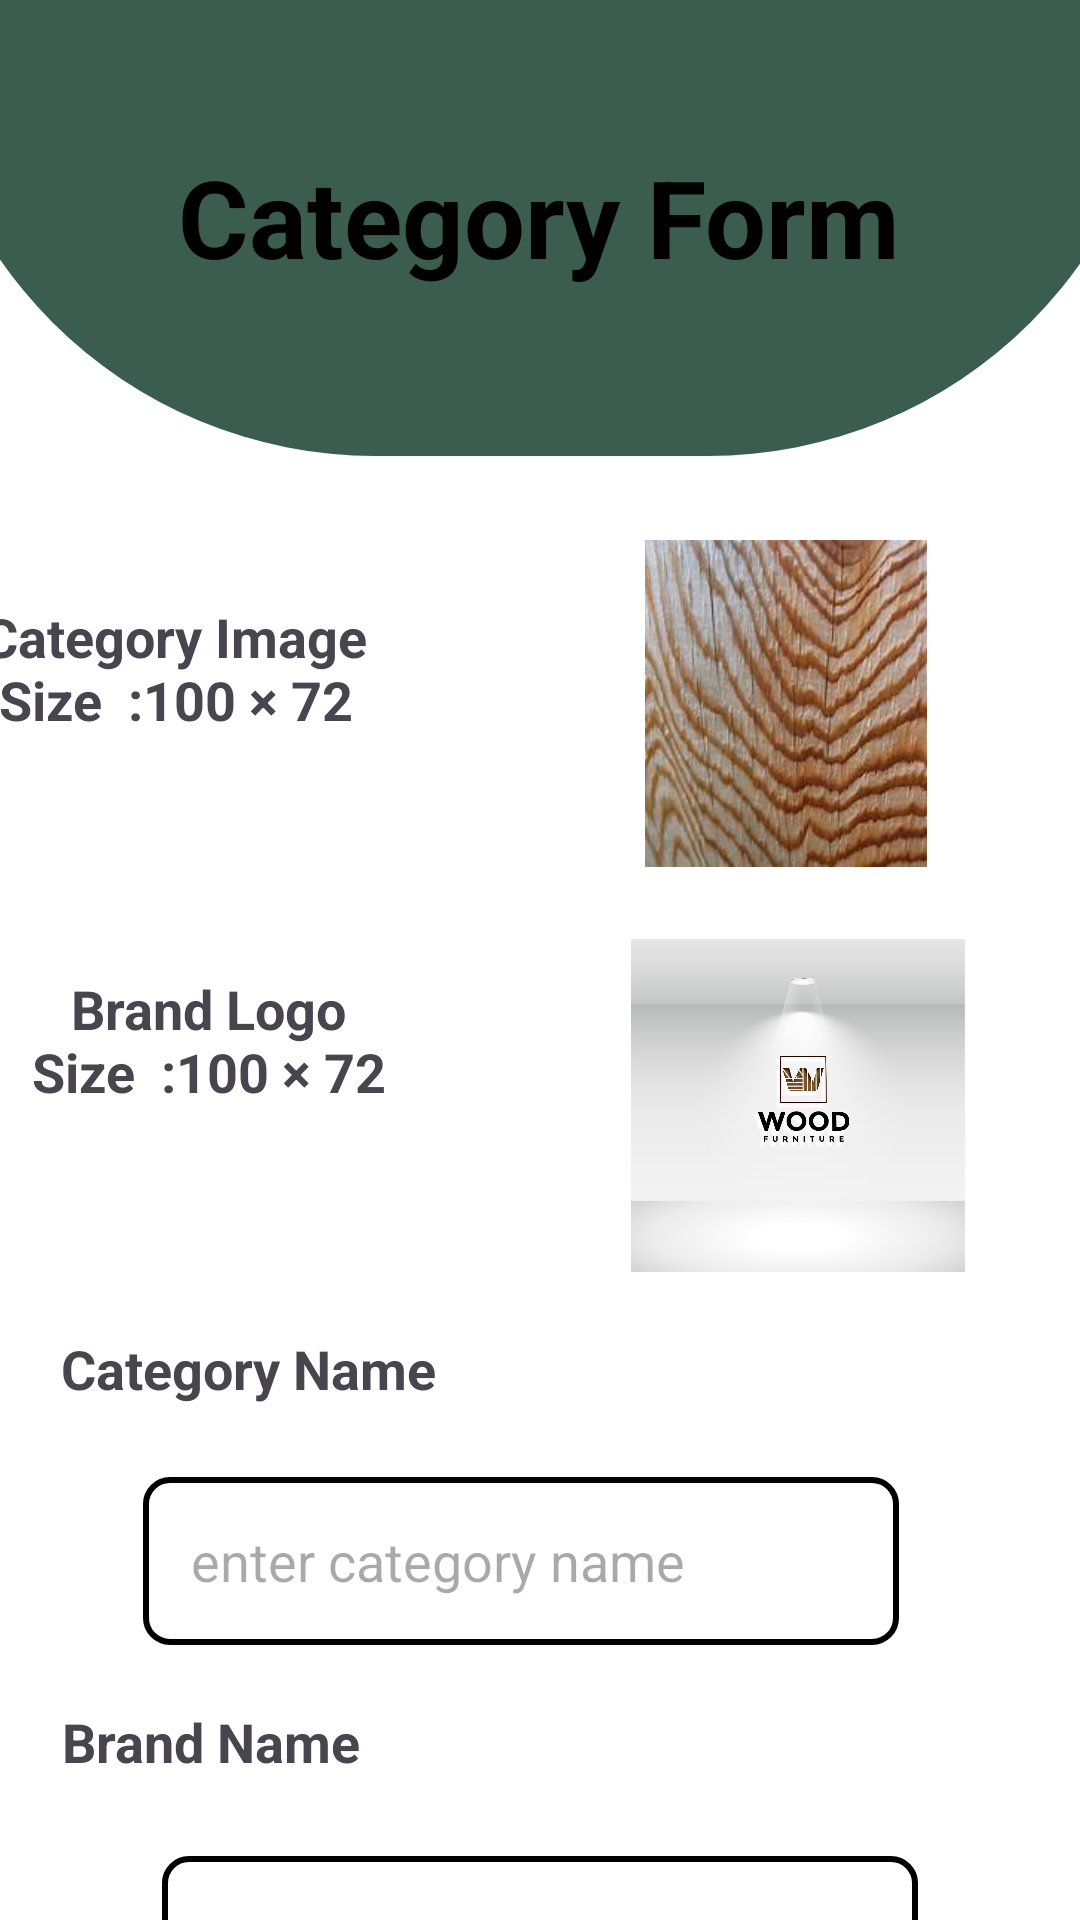

Icons on this 1080px x 1920px Android screen, each with the point to tap as [x,y]:
cedarwood: [786,703]
